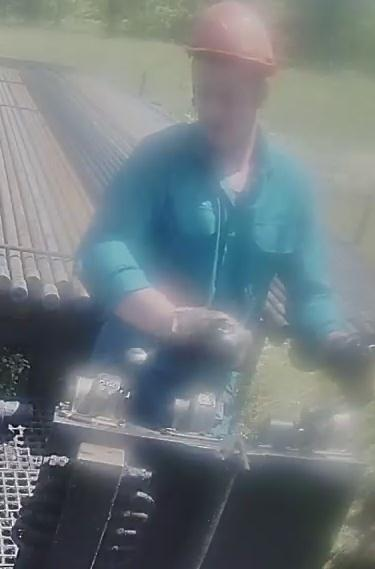gloves: (166, 301, 255, 376), (326, 321, 375, 408)
helmet: (176, 0, 281, 75)
vest: (117, 119, 297, 395)
